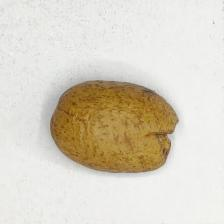NG: (145, 107, 179, 163)
